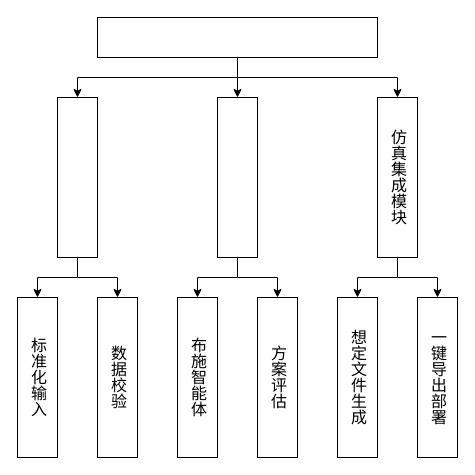
This 475x475 diagram has some shape labels left out. Each missing label, with the centre of its shape:
兵力布势模块: point 237,37
数据接口模块: point 77,177
智能布势模块: point 237,177
